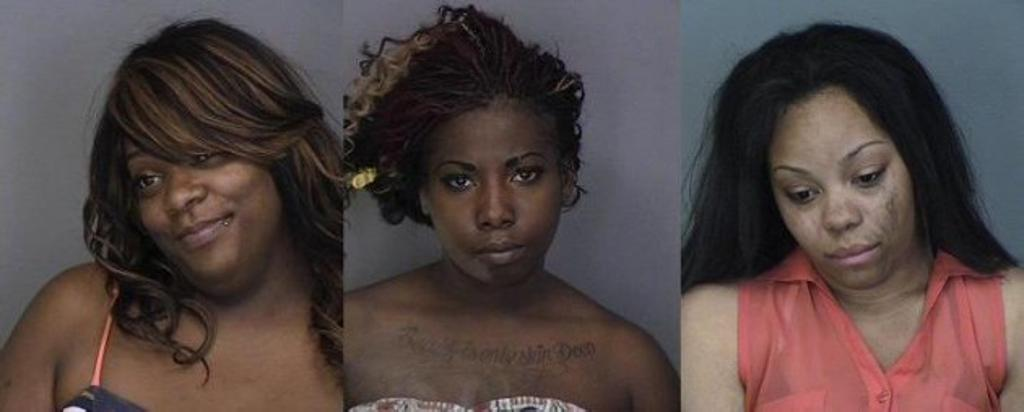face: (124, 106, 272, 292), (772, 100, 902, 296), (428, 112, 556, 286)
